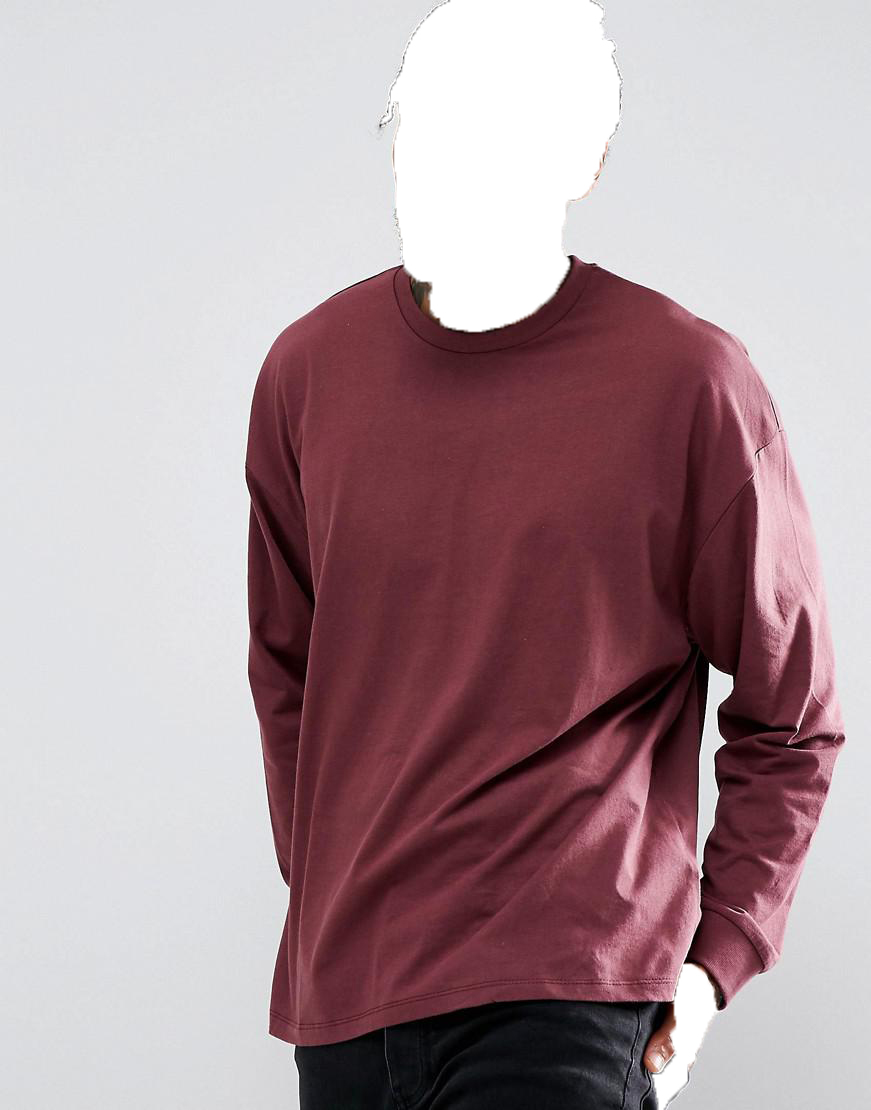teeshirt: (240, 247, 849, 1030)
